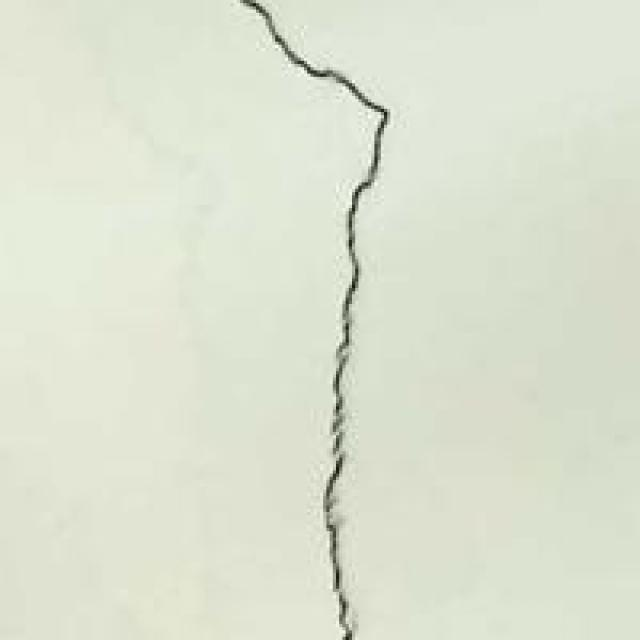crack: (243, 9, 422, 636)
